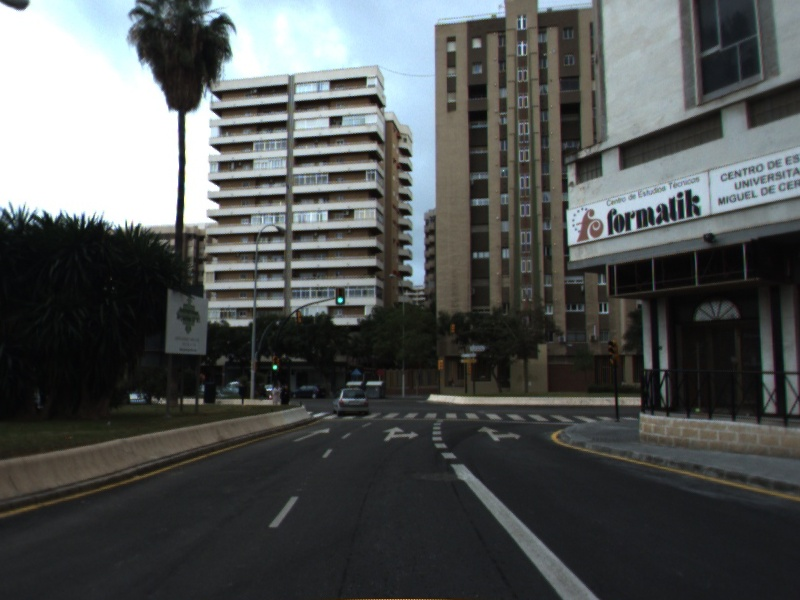STRAIGHT: (290, 425, 332, 443)
STRAIGHT_RIGHT: (475, 424, 523, 443), (380, 424, 421, 443)
